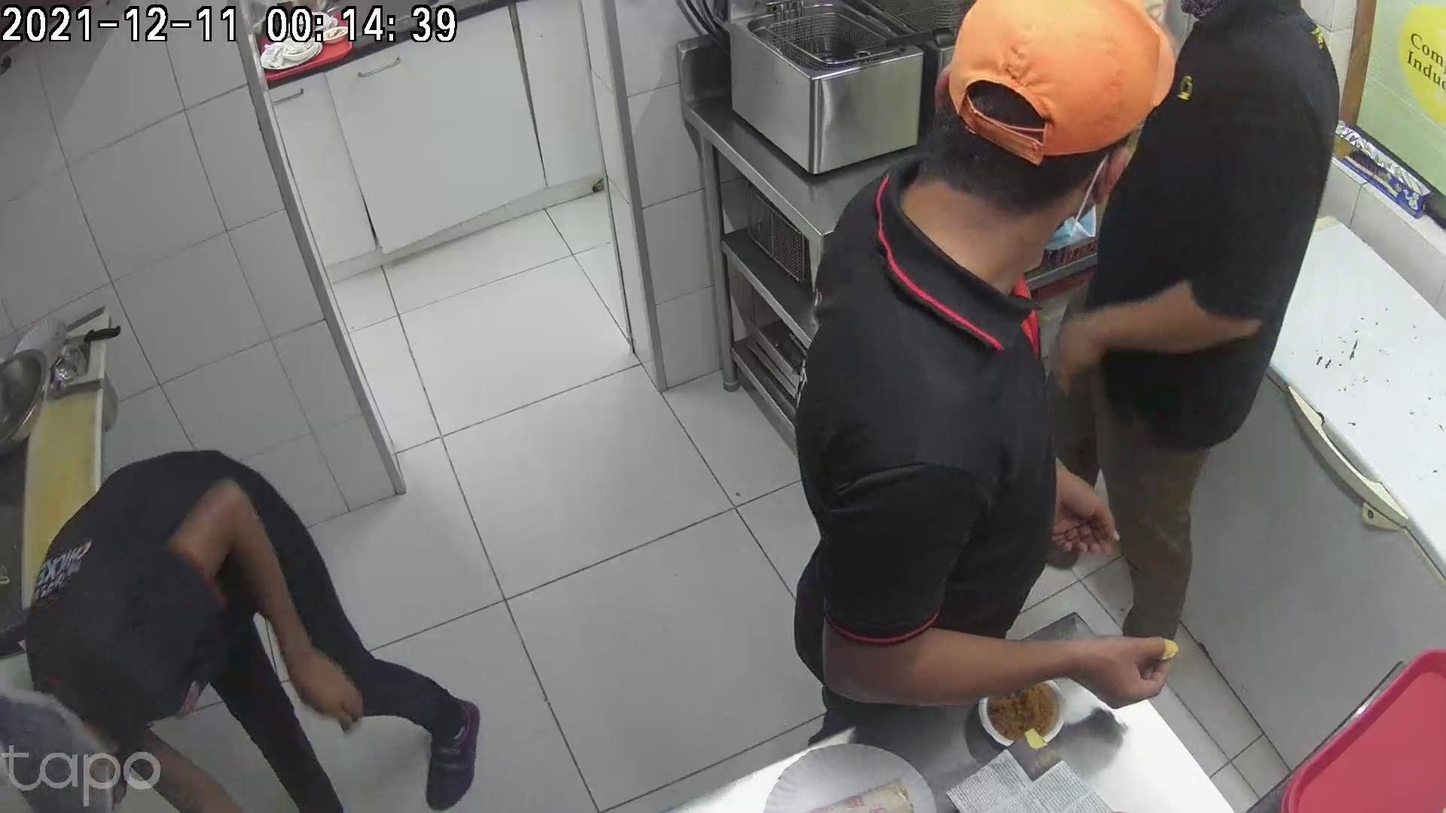no_gloves: (347, 556, 477, 644)
